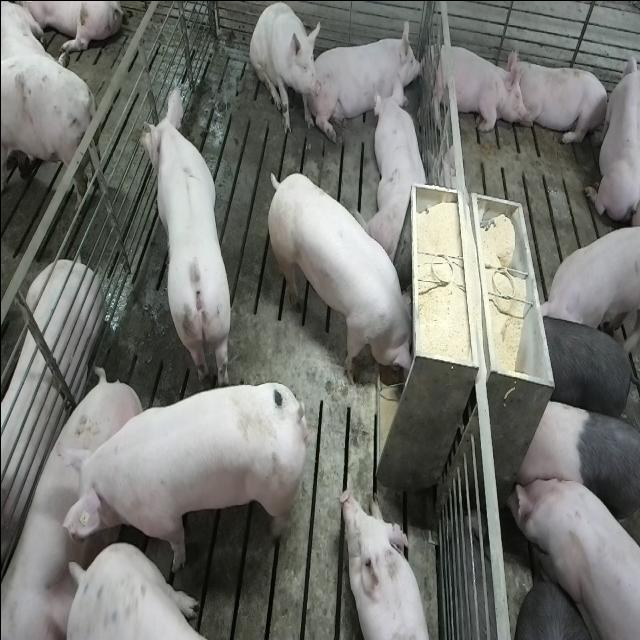Feeding: (272, 168, 420, 386)
Lateral_lying: (0, 367, 146, 640), (0, 256, 102, 595)
Sitting: (249, 2, 321, 136)
Standing: (65, 376, 312, 574), (136, 79, 232, 382), (504, 469, 638, 640), (514, 393, 638, 553), (0, 49, 102, 222), (58, 538, 234, 636), (532, 224, 636, 340), (536, 307, 638, 421)
Sternal_lying: (340, 488, 434, 640), (312, 20, 423, 134), (367, 79, 430, 263), (424, 36, 524, 136), (584, 42, 638, 225), (512, 51, 609, 148)
